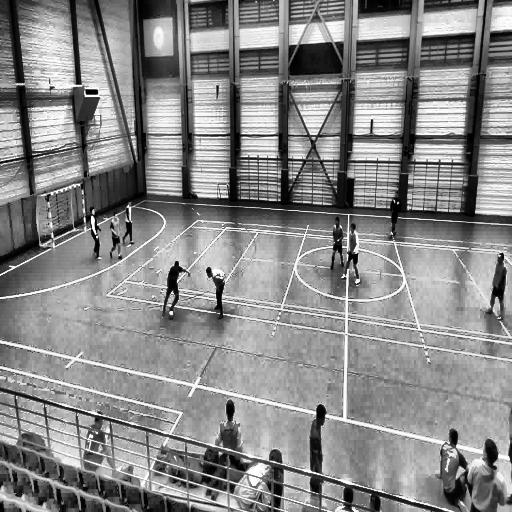ball: (167, 310, 174, 319)
player: (469, 435, 507, 512), (434, 428, 468, 512), (82, 409, 122, 477), (308, 403, 326, 499), (215, 399, 244, 455), (164, 258, 190, 318), (484, 250, 506, 319), (342, 222, 362, 283), (206, 264, 226, 320), (331, 215, 345, 273), (109, 210, 123, 261), (89, 206, 102, 260), (389, 194, 401, 238), (123, 201, 134, 247)
